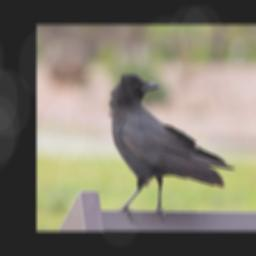Crow: (107, 73, 236, 221)
